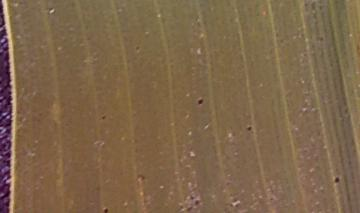tarspot: (332, 174, 342, 187), (245, 122, 255, 134), (195, 96, 205, 107), (99, 114, 109, 123), (185, 194, 194, 204), (193, 200, 201, 211), (99, 207, 110, 213), (183, 207, 194, 213)
